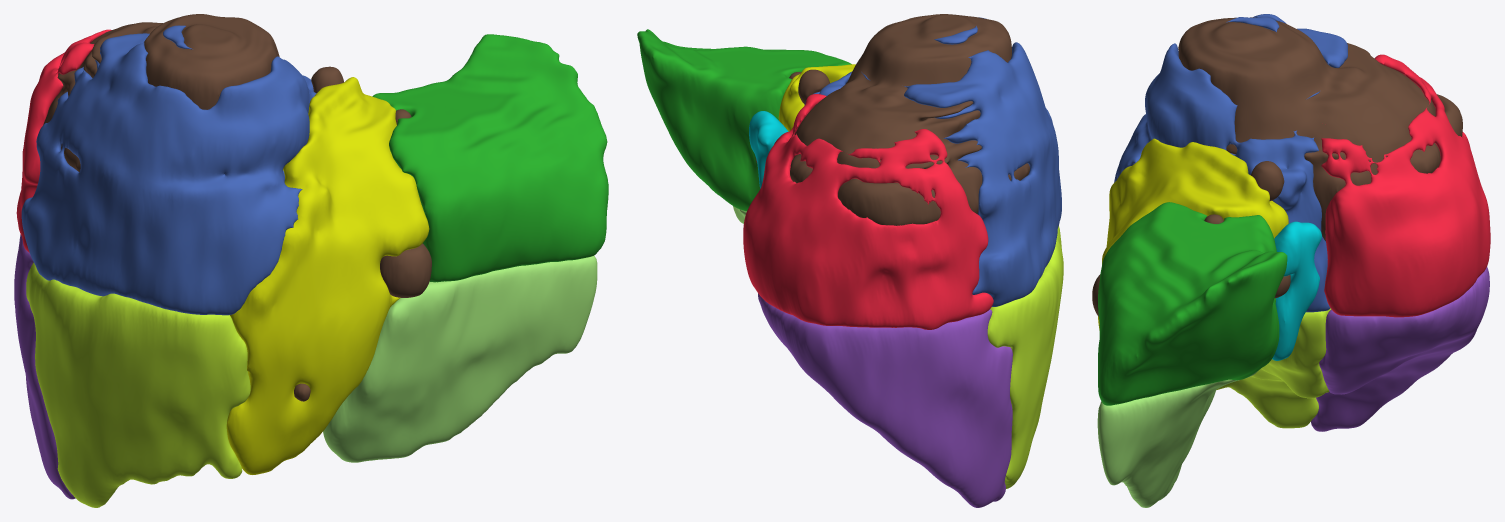
File: figado_segmentos.glb
The picture shows the model from 3 angles, left to right: view 1: azimuth 30°, elevation 25°; view 2: azimuth 150°, elevation 25°; view 3: azimuth 270°, elevation 25°; orthographic projection. The views are drawn at different scales.
Parts seen in each view (by area): view 1: segmento_8, segmento_4, segmento_2, segmento_5, segmento_3, lesoes, segmento_6, segmento_7; view 2: segmento_7, segmento_6, lesoes, segmento_8, segmento_2, segmento_5, segmento_1, segmento_4; view 3: segmento_2, segmento_7, lesoes, segmento_8, segmento_6, segmento_4, segmento_3, segmento_5, segmento_1.
Part boxes in pixels (x1,y1,x2,y2): segmento_8: (21, 25, 316, 315); segmento_4: (226, 77, 429, 474); segmento_2: (372, 34, 608, 282); segmento_5: (26, 262, 250, 507); segmento_3: (323, 256, 597, 462); lesoes: (43, 14, 431, 401); segmento_6: (14, 234, 75, 499); segmento_7: (16, 29, 111, 252); segmento_7: (743, 94, 993, 329); segmento_6: (758, 293, 1012, 507); lesoes: (755, 14, 1029, 225); segmento_8: (804, 17, 1061, 306); segmento_2: (637, 29, 851, 211); segmento_5: (987, 226, 1063, 488); segmento_1: (749, 111, 788, 188); segmento_4: (778, 64, 855, 131); segmento_2: (1098, 202, 1287, 405); segmento_7: (1321, 54, 1490, 317); lesoes: (1092, 17, 1462, 316); segmento_8: (1114, 14, 1347, 312); segmento_6: (1311, 267, 1489, 431); segmento_4: (1098, 138, 1288, 330); segmento_3: (1097, 371, 1257, 507); segmento_5: (1216, 308, 1331, 428); segmento_1: (1272, 221, 1321, 360).
Bounding box in the file's own units: 191 × 177 × 144.
